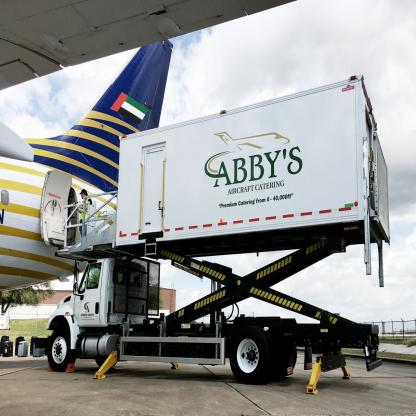Catering truck: (46, 72, 392, 392)
